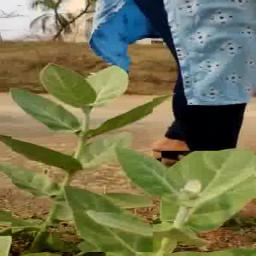Calotropis: (12, 56, 154, 252), (162, 151, 254, 251)
